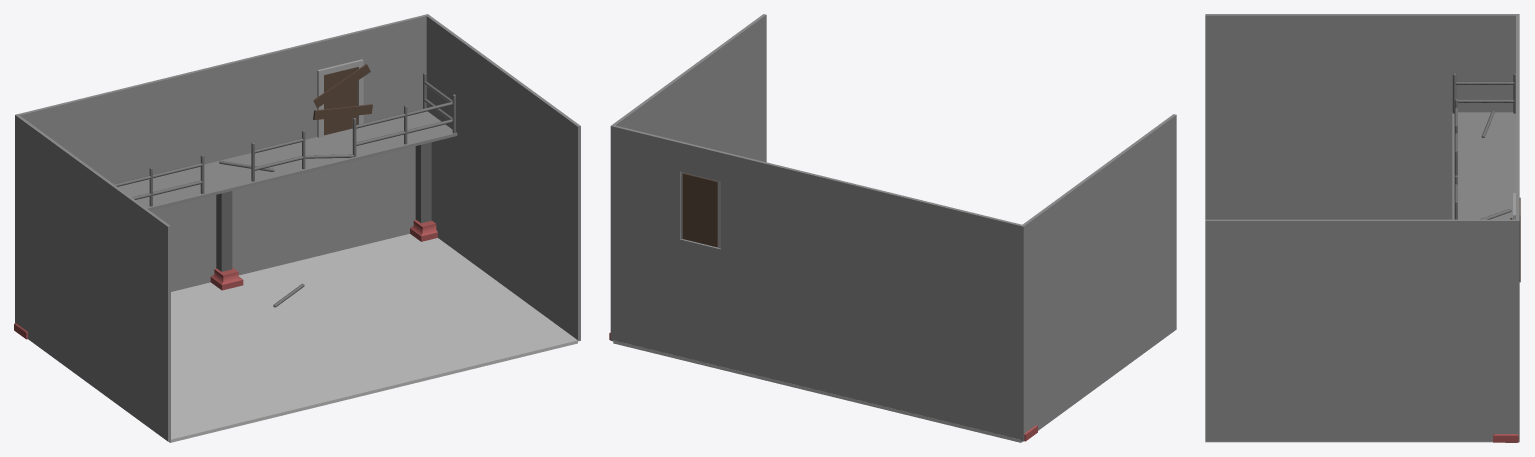
The model's file is Backstage_3.fbx.
3 renders of one model, left to right at view 1: azimuth 30°, elevation 25°; view 2: azimuth 150°, elevation 25°; view 3: azimuth 270°, elevation 25°, orthographic. The views are drawn at different scales.
Visible parts, largest first — view 1: Walls, Floor, Catwalk, Supports, Fence, Boards, Doorframe; view 2: Walls, Boards, Floor; view 3: Walls, Catwalk, Fence, Floor.
Part boxes in pixels (<box>): Walls: <box>15,14,580,441</box>; Floor: <box>168,234,577,442</box>; Catwalk: <box>118,111,457,210</box>; Supports: <box>14,142,437,339</box>; Fence: <box>114,72,455,206</box>; Boards: <box>313,64,372,135</box>; Doorframe: <box>317,59,363,137</box>; Walls: <box>610,14,1176,441</box>; Boards: <box>682,173,717,247</box>; Floor: <box>613,340,1022,442</box>; Walls: <box>1205,14,1519,441</box>; Catwalk: <box>1452,112,1515,219</box>; Fence: <box>1452,73,1515,219</box>; Floor: <box>1205,441,1519,442</box>.
Bounding box in the file's own units: 39.74 × 19.85 × 25.36.
